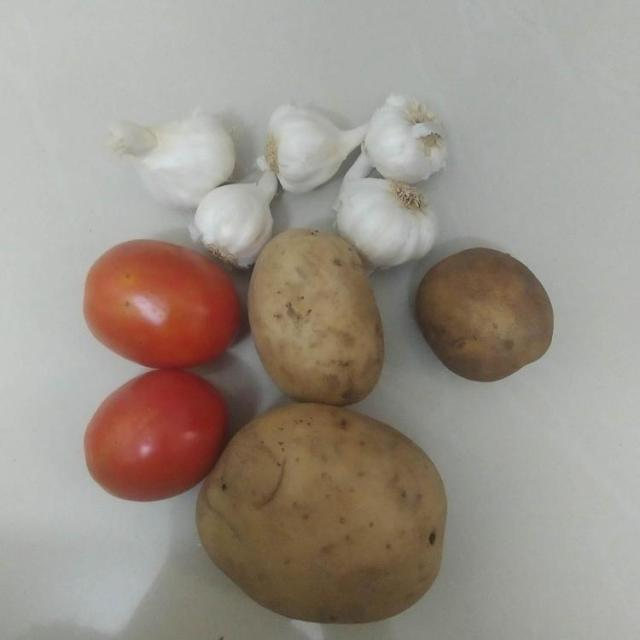Organik: (193, 413, 458, 625), (243, 229, 386, 411), (80, 238, 246, 370), (81, 364, 232, 505), (412, 245, 558, 386), (101, 115, 234, 210), (190, 168, 284, 268), (255, 114, 372, 191), (339, 175, 444, 255), (359, 98, 448, 186)
